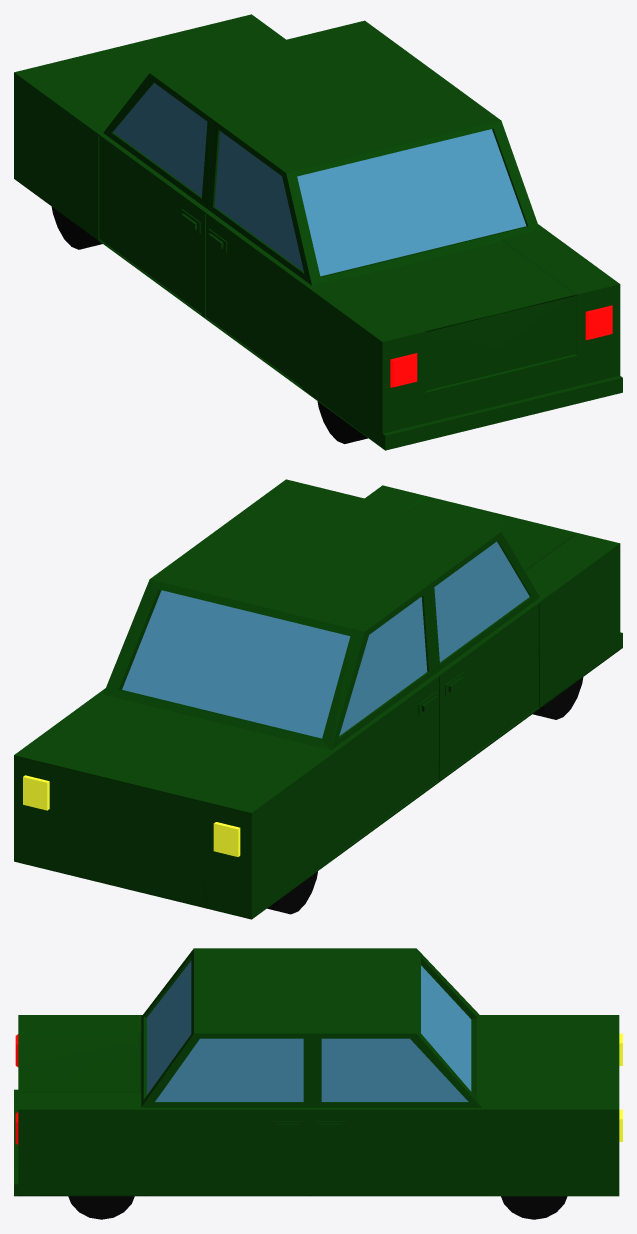
Rendered from New_green_car.FBX.
The picture shows the model from 3 angles, top to bottom: view 1: azimuth 30°, elevation 25°; view 2: azimuth 150°, elevation 25°; view 3: azimuth 270°, elevation 25°; orthographic projection. The views are drawn at different scales.
Parts seen in each view (by area): view 1: Box001, Tube004, Tube003; view 2: Box001, Tube004, Tube003; view 3: Box001, Tube005, Tube002.
Boxes of the visible parts, x1,y1,x2,y2 form: Box001: [14, 14, 622, 450]; Tube004: [51, 207, 102, 249]; Tube003: [317, 401, 367, 443]; Box001: [14, 479, 622, 919]; Tube004: [267, 871, 317, 914]; Tube003: [532, 677, 583, 719]; Box001: [14, 948, 622, 1196]; Tube005: [501, 1196, 567, 1219]; Tube002: [68, 1196, 134, 1219].
Bounding box in the file's own units: 76.13 × 67.45 × 203.
